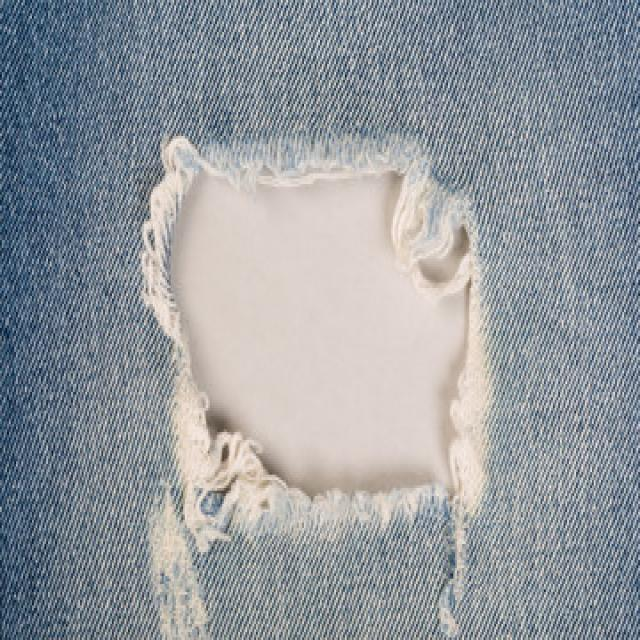Hole: (143, 137, 488, 552), (145, 483, 217, 640)
